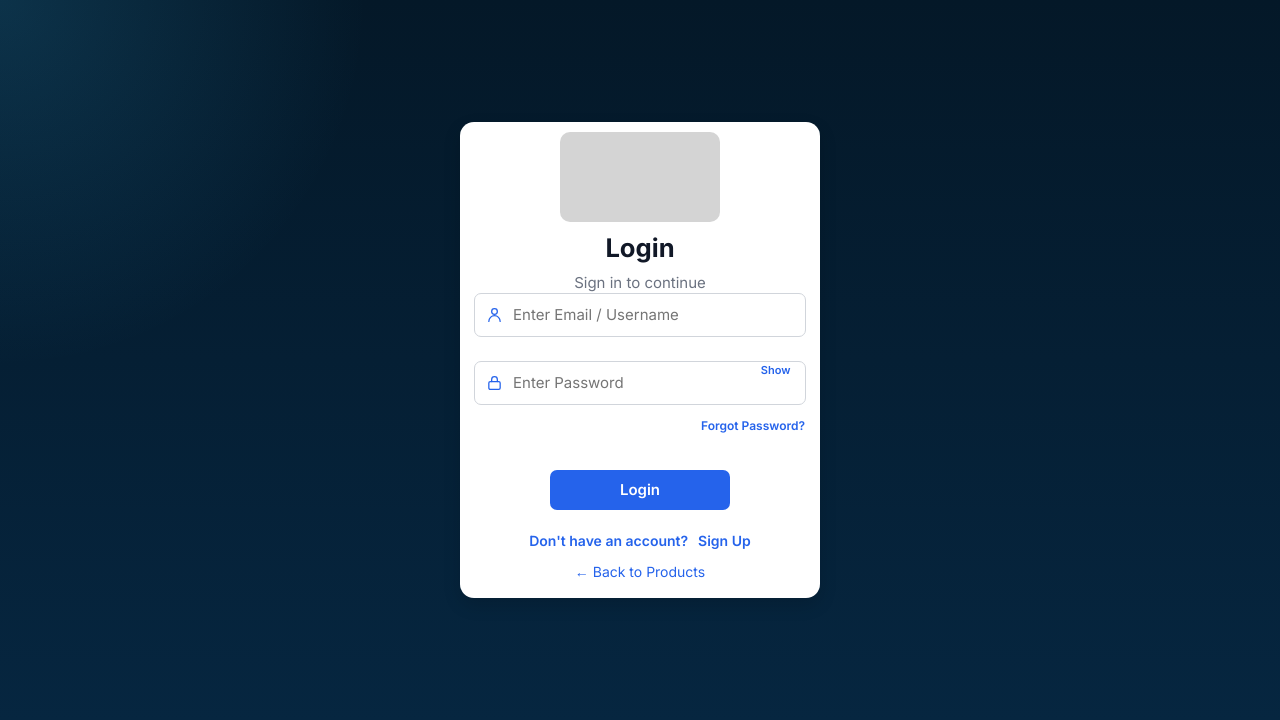
Test case: Login › shows the backend error when login response is plain text or non-JSON
This screenshot has width=1280, height=720.
Type "student@example.com" into the field with placeholder "Enter Email / Username".
click(640, 315); type("student@example.com")  # box [474,293,806,337]
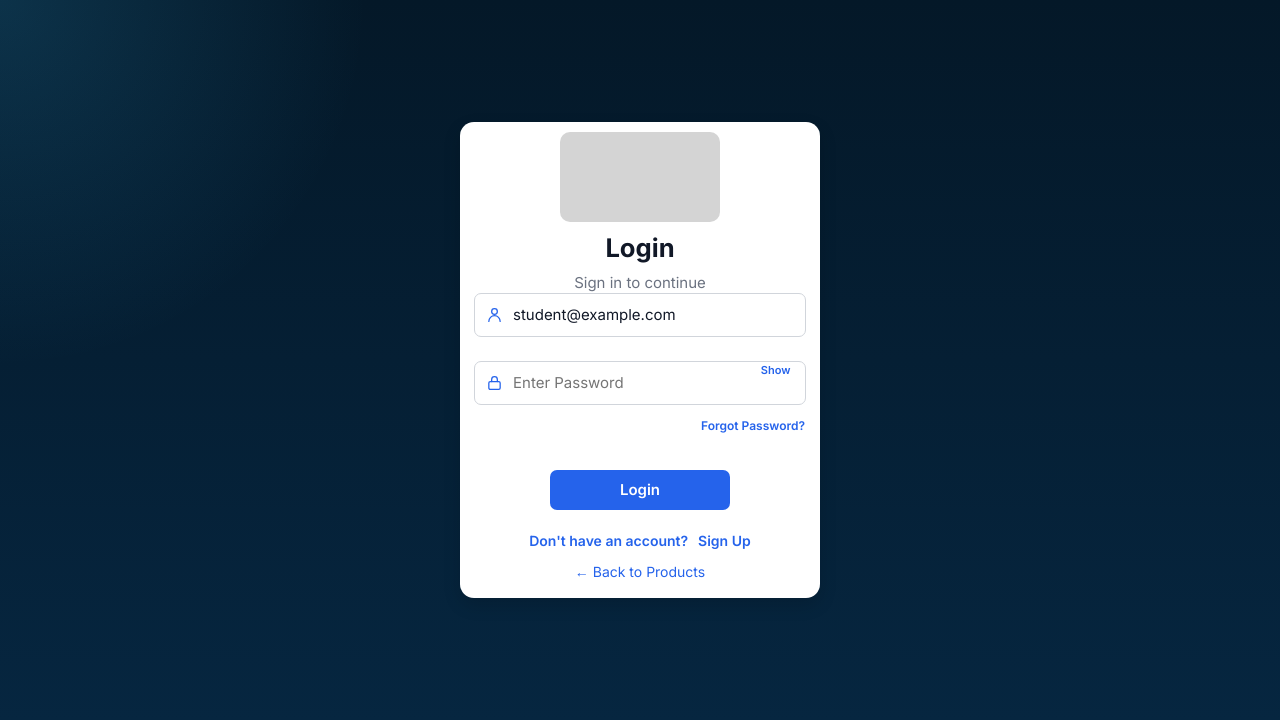
Type "wrongpass" into the password field with placeholder "Enter Password".
click(640, 383); type("wrongpass")  # box [474,361,806,405]
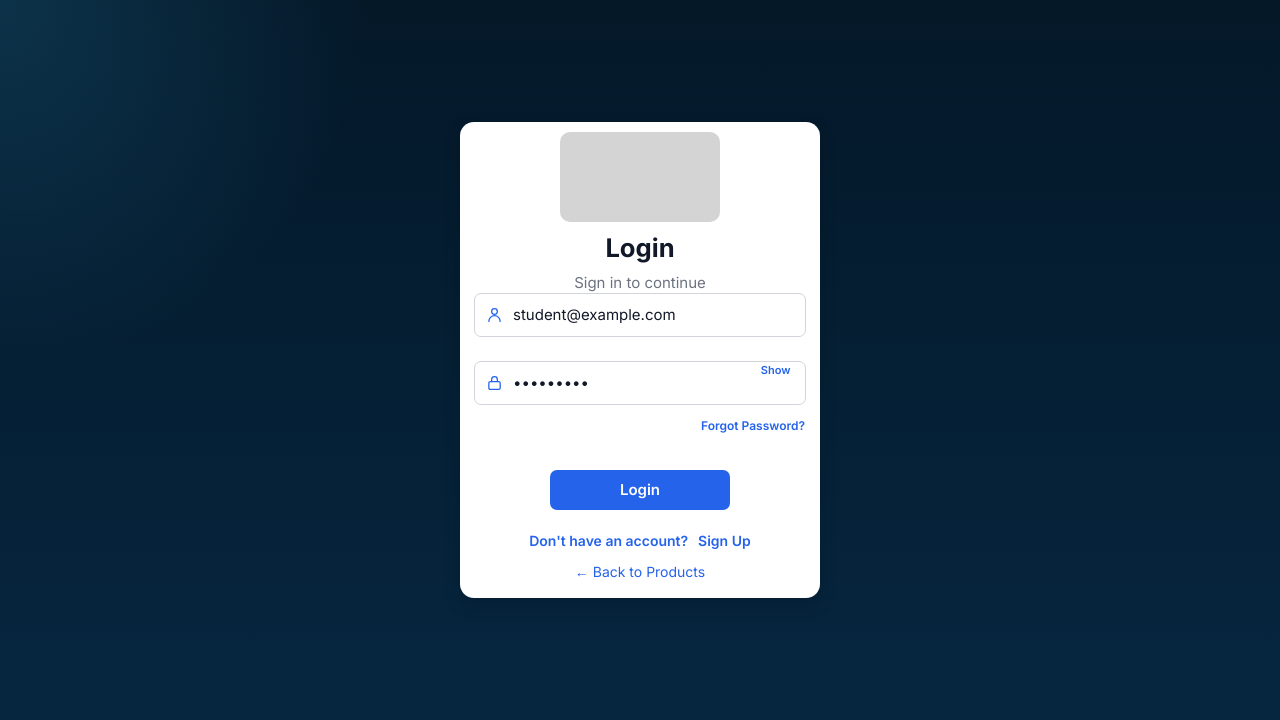
Click the button "Login".
click(640, 490)  # box [550,470,730,510]
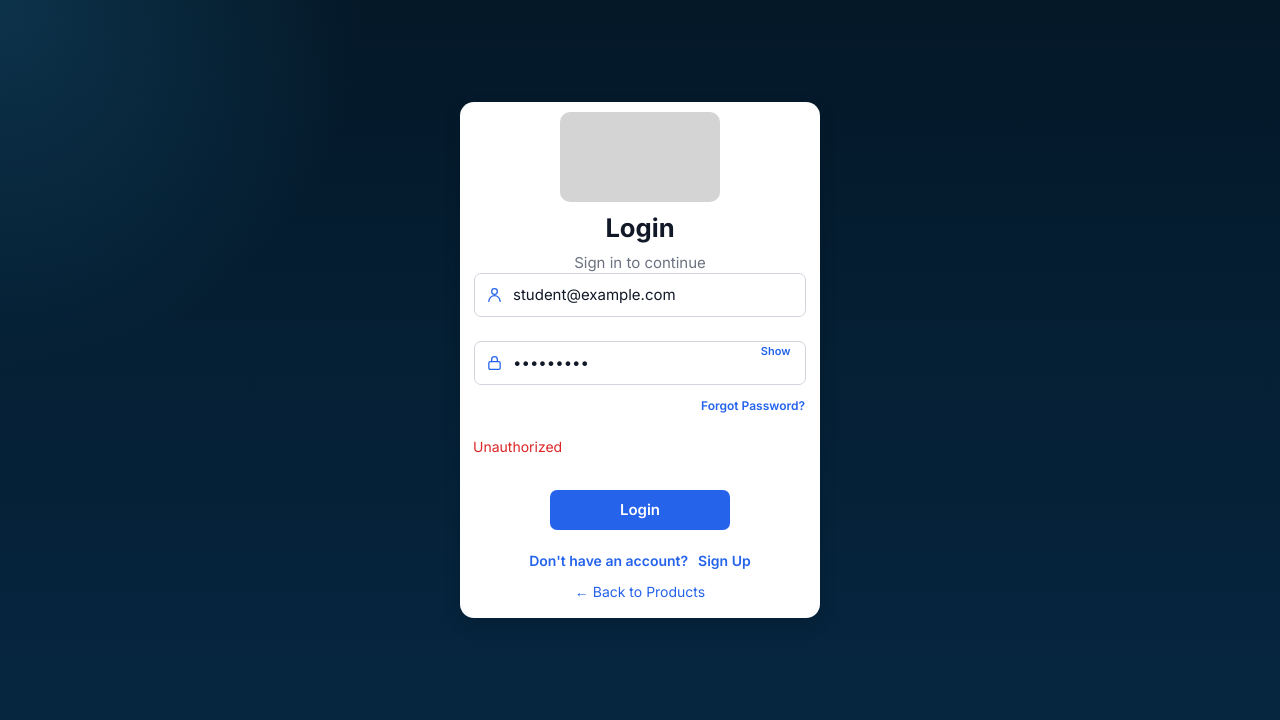
Expected: the text "Unauthorized" is shown, [473,437,562,456]
